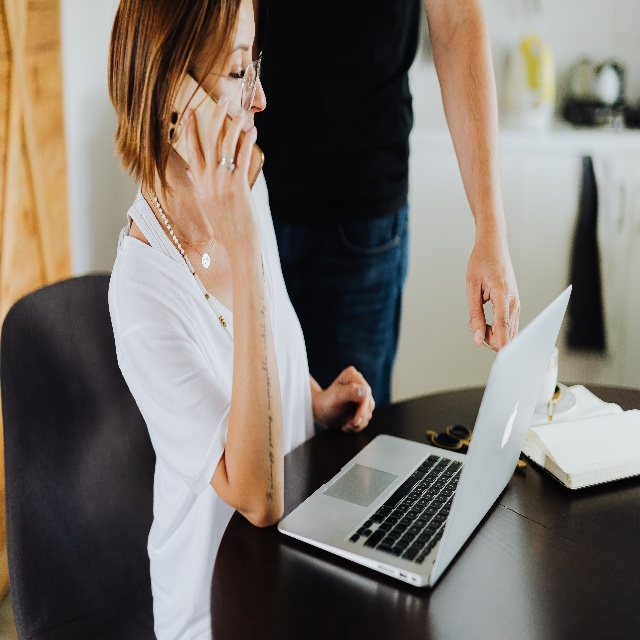Gafas: (184, 36, 262, 114)
Sin_guantes: (185, 104, 259, 253), (465, 232, 523, 351), (320, 366, 374, 439)
